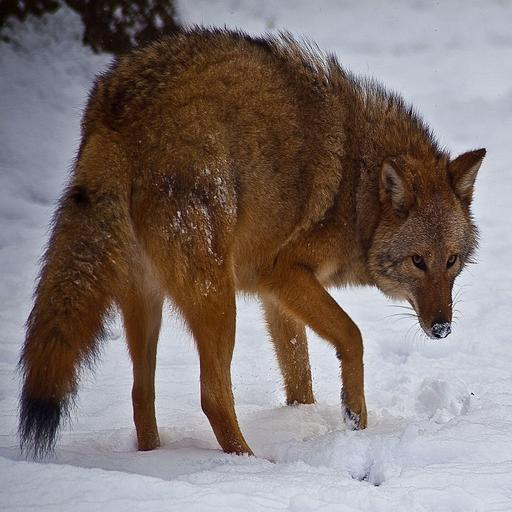Wolf: (15, 25, 492, 460)
